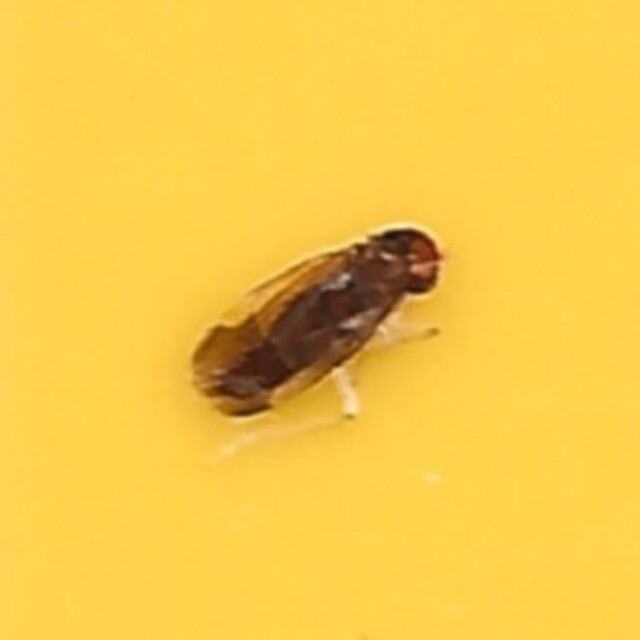Hemiptera: (189, 213, 451, 427)
